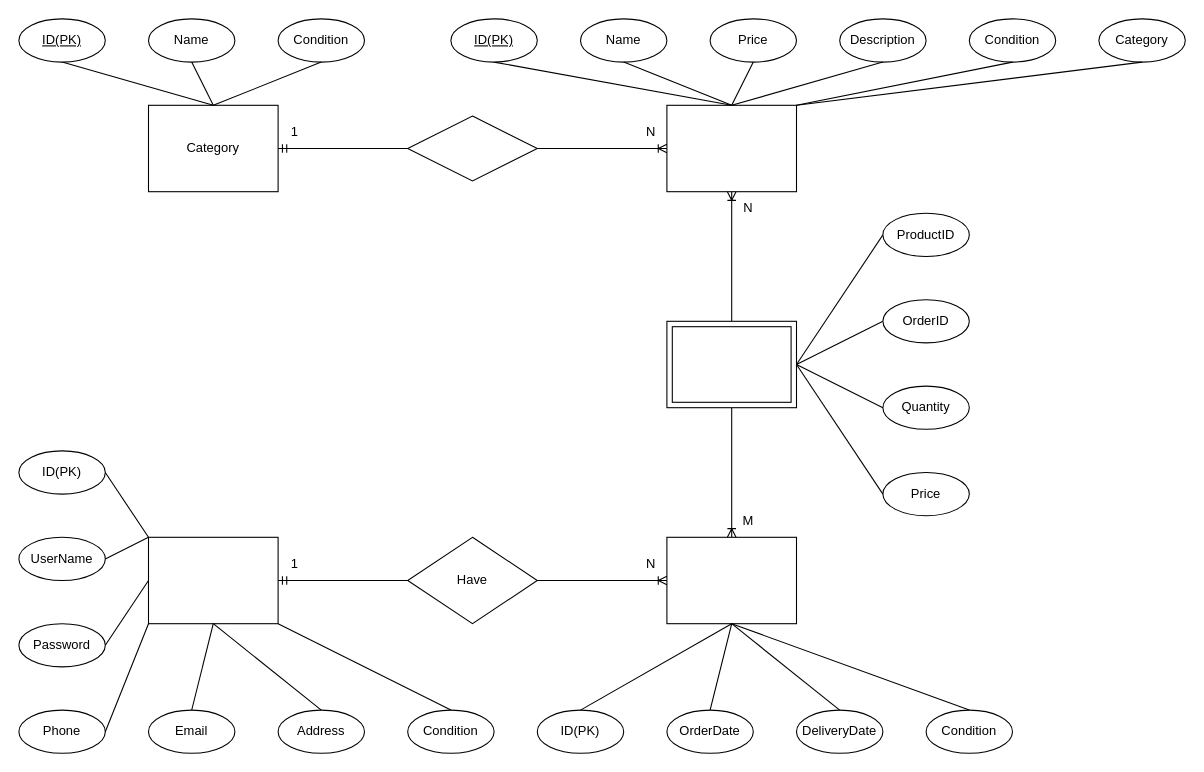
The diagram is 1204 pixels wide and 772 high, and some of its shapes have lost their labels. The centre of each missing label's shape, as x and y in pixels:
Customer: pixel 212 580
Of: pixel 472 148
Order: pixel 731 580
Product: pixel 731 148
ProductOrder: pixel 731 364
